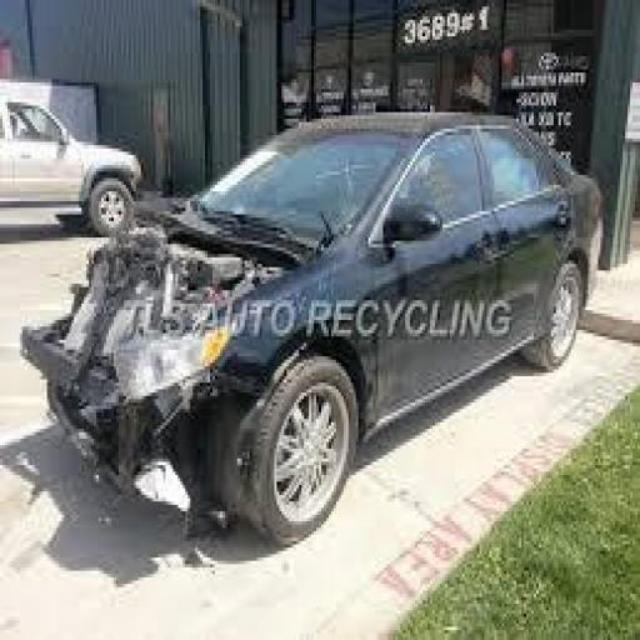crash: (20, 199, 345, 548)
